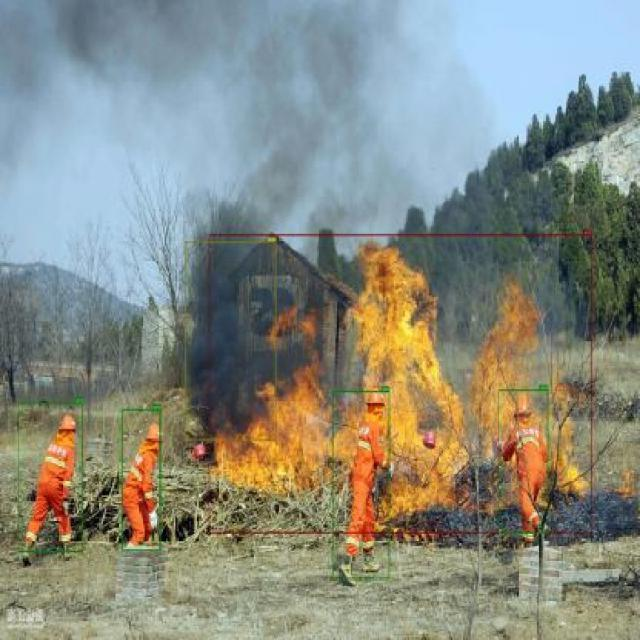Fire: (210, 234, 592, 534)
Smoke: (185, 242, 278, 440)
